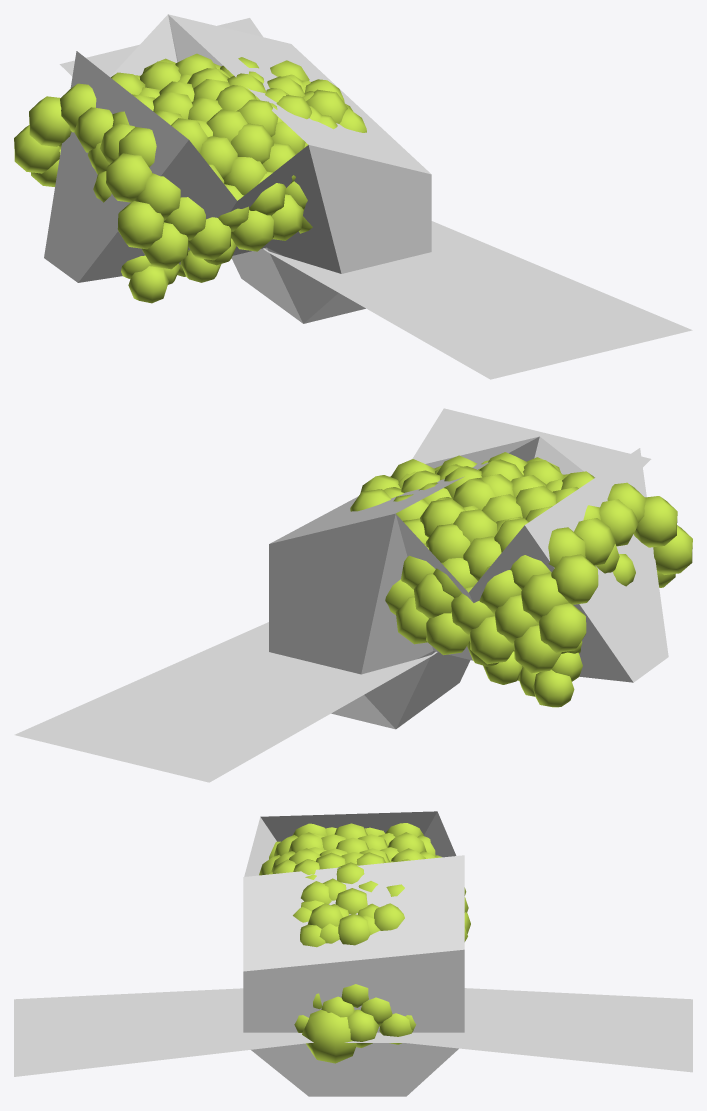
File: boatCavern.fbx
3 views of the same model, one above another, from view 1: azimuth 30°, elevation 25°; view 2: azimuth 150°, elevation 25°; view 3: azimuth 270°, elevation 25° (orthographic). The views are drawn at different scales.
Parts seen in each view (by area): view 1: boatCavern, boatLake, modularForestCanopy.088, modularForestCanopy.089, modularForestCanopy.085, modularForestCanopy.086, modularForestPiece.072, modularForestPiece.082; view 2: boatCavern, boatLake, modularForestCanopy.088, modularForestCanopy.089, modularForestCanopy.085, modularForestCanopy.086, modularForestPiece.078, modularForestPiece.082, modularForestPiece.077; view 3: boatCavern, boatLake, modularForestCanopy.087, modularForestCanopy.086, modularForestCanopy.088, modularForestCanopy.089, modularForestCanopy.085.
Boxes of the visible parts, x1=… form: boatCavern: x1=44, y1=14, x2=431, y2=323; boatLake: x1=59, y1=18, x2=692, y2=379; modularForestCanopy.088: x1=14, y1=61, x2=273, y2=269; modularForestCanopy.089: x1=142, y1=53, x2=347, y2=240; modularForestCanopy.085: x1=74, y1=74, x2=240, y2=164; modularForestCanopy.086: x1=187, y1=68, x2=366, y2=132; modularForestPiece.072: x1=128, y1=266, x2=168, y2=303; modularForestPiece.082: x1=177, y1=238, x2=236, y2=282; boatCavern: x1=269, y1=436, x2=668, y2=729; boatLake: x1=14, y1=408, x2=651, y2=782; modularForestCanopy.088: x1=426, y1=460, x2=692, y2=673; modularForestCanopy.089: x1=350, y1=452, x2=560, y2=644; modularForestCanopy.085: x1=464, y1=471, x2=638, y2=565; modularForestCanopy.086: x1=360, y1=459, x2=523, y2=510; modularForestPiece.078: x1=532, y1=669, x2=574, y2=707; modularForestPiece.082: x1=467, y1=641, x2=522, y2=684; modularForestPiece.077: x1=551, y1=652, x2=582, y2=681; boatCavern: x1=243, y1=811, x2=464, y2=1096; boatLake: x1=14, y1=988, x2=692, y2=1076; modularForestCanopy.087: x1=302, y1=915, x2=412, y2=1063; modularForestCanopy.086: x1=300, y1=852, x2=385, y2=947; modularForestCanopy.088: x1=259, y1=823, x2=470, y2=933; modularForestCanopy.089: x1=273, y1=859, x2=467, y2=941; modularForestCanopy.085: x1=309, y1=823, x2=398, y2=864.
Size of the model in its own units: 24328 by 13875 by 43548.
